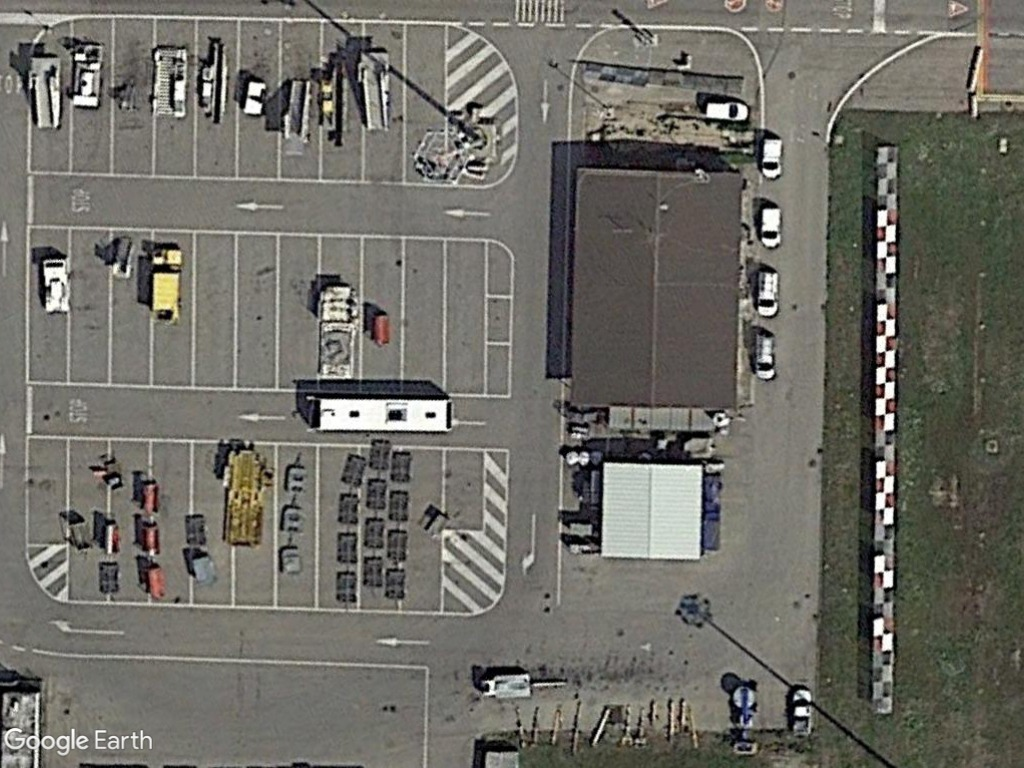bus: (302, 391, 456, 436)
car: (788, 684, 816, 742)
other: (147, 244, 188, 331), (149, 42, 192, 124), (280, 75, 315, 151), (38, 252, 73, 319)
stairtruck: (356, 44, 398, 139), (25, 52, 67, 133)
van: (750, 331, 780, 386), (753, 264, 782, 320), (701, 95, 752, 126), (756, 202, 785, 252), (759, 134, 783, 184)
